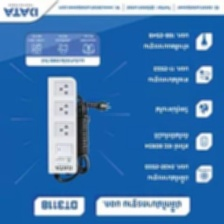three_eye_plug: (45, 73, 81, 176)
